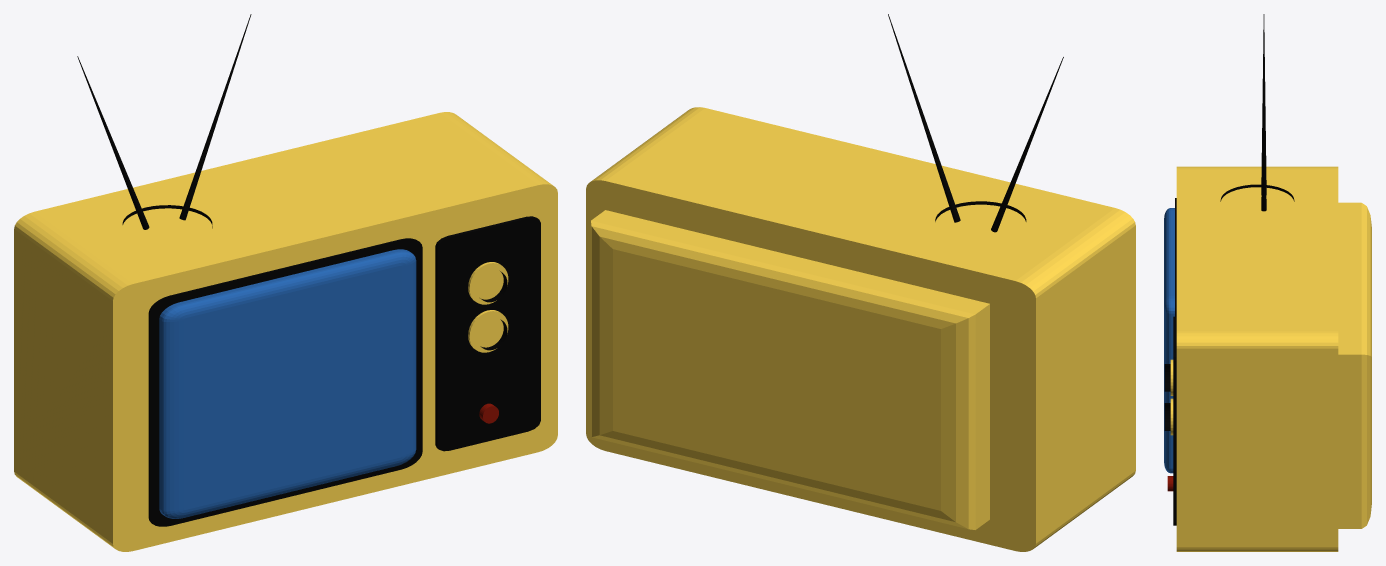
3 views of the same model, side by side, from view 1: azimuth 30°, elevation 25°; view 2: azimuth 150°, elevation 25°; view 3: azimuth 270°, elevation 25° (orthographic). The views are drawn at different scales.
Parts seen in each view (by area): view 1: Cube; view 2: Cube; view 3: Cube.
Part boxes in pixels (<box>): Cube: <box>14,14,557,551</box>; Cube: <box>586,14,1135,551</box>; Cube: <box>1164,14,1371,551</box>.
Size of the model in its own units: 1140 by 1117 by 564.
